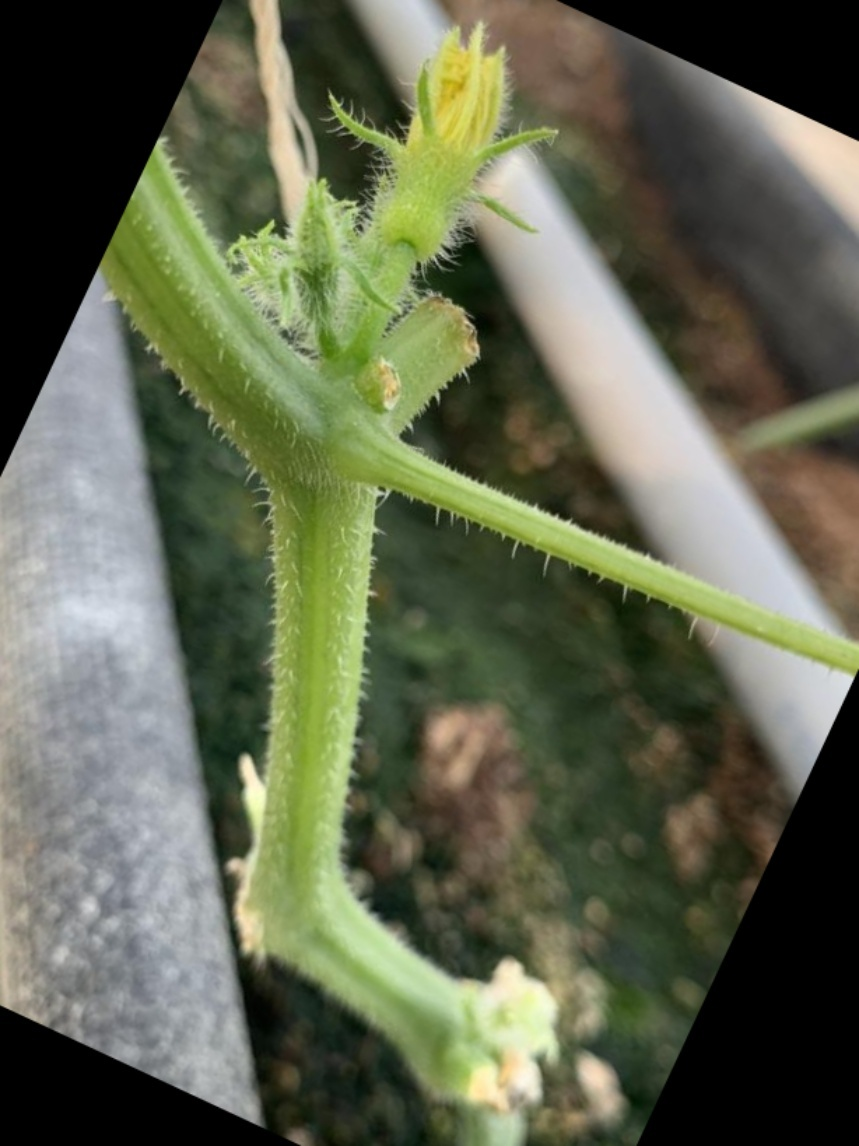bud: (326, 8, 556, 295)
